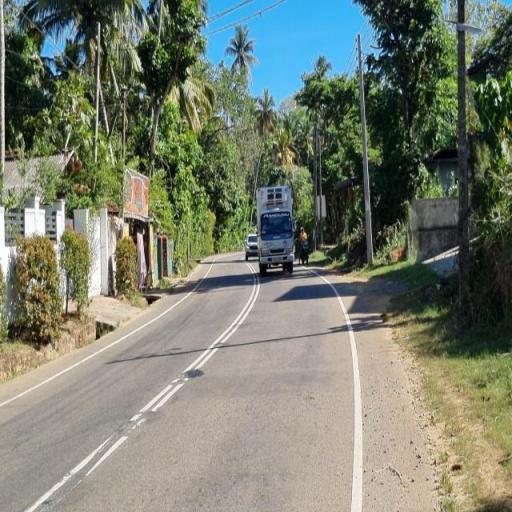double_white_line: (20, 267, 261, 500)
